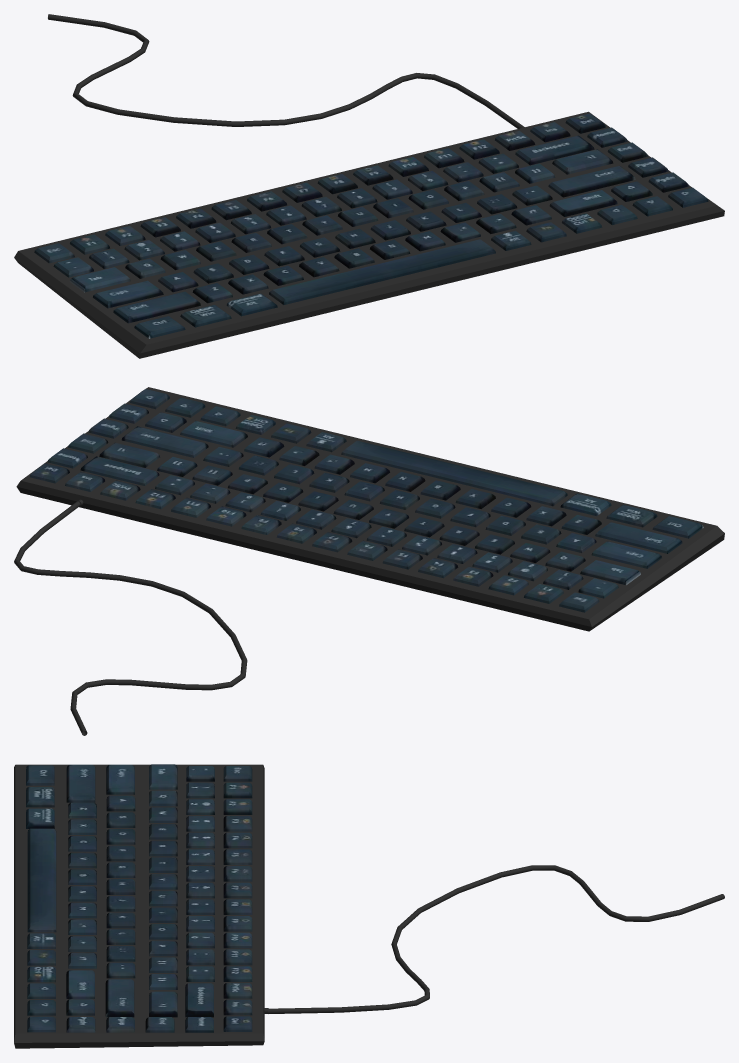
File: Keyboard.fbx
The picture shows the model from 3 angles, top to bottom: view 1: azimuth 30°, elevation 25°; view 2: azimuth 150°, elevation 25°; view 3: azimuth 270°, elevation 25°; orthographic projection. The views are drawn at different scales.
Parts seen in each view (by area): view 1: Keys, Keyboard, Cable; view 2: Keys, Keyboard, Cable; view 3: Keys, Keyboard, Cable.
Boxes of the visible parts, x1,y1,x2,y2 form: Keys: (34, 113, 708, 338); Keyboard: (14, 111, 724, 358); Cable: (48, 14, 524, 128); Keys: (30, 389, 703, 612); Keyboard: (16, 387, 724, 631); Cable: (14, 501, 247, 735); Keys: (26, 764, 252, 1032); Keyboard: (14, 764, 264, 1048); Cable: (268, 865, 724, 1013).
Bounding box in the file's own units: 477 × 13.37 × 520.
